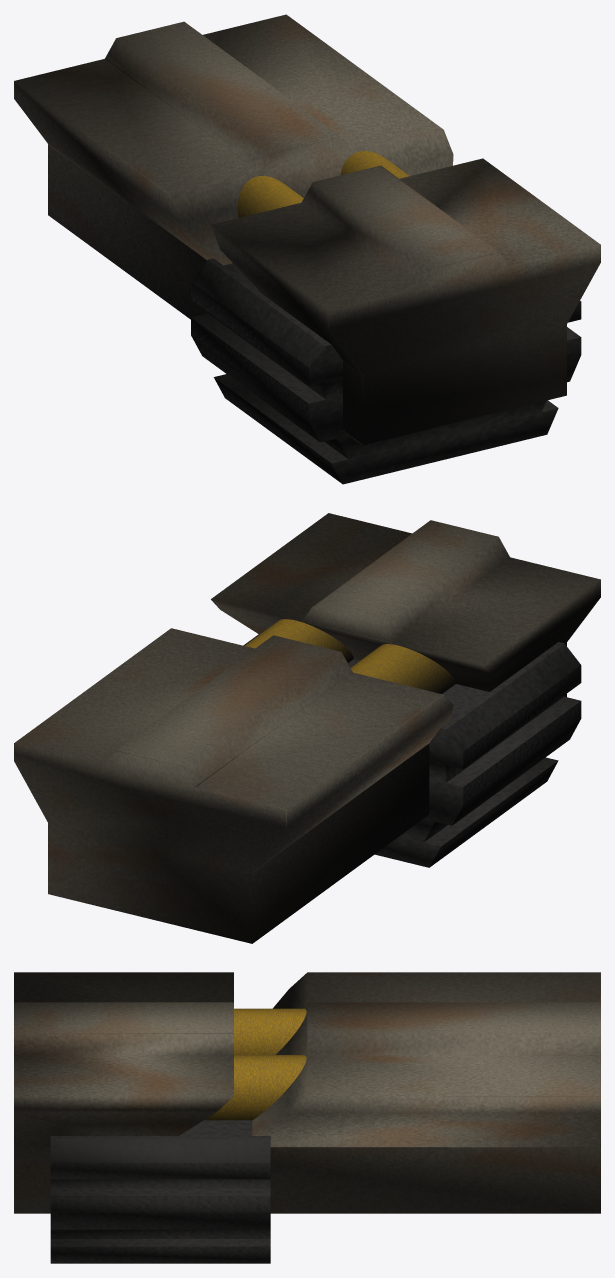
The model's file is ShrapCan.fbx.
The picture shows the model from 3 angles, top to bottom: view 1: azimuth 30°, elevation 25°; view 2: azimuth 150°, elevation 25°; view 3: azimuth 270°, elevation 25°; orthographic projection. The views are drawn at different scales.
Visible parts, largest first — view 1: Cube, Cube.001, Tube; view 2: Cube, Cube.001, Tube; view 3: Cube, Cube.001, Tube.
Part boxes in pixels (box(x1,y1,x2,y2)): Cube: box(14, 14, 600, 445); Cube.001: box(191, 258, 581, 484); Tube: box(237, 151, 409, 217); Cube: box(14, 513, 600, 943); Cube.001: box(243, 634, 581, 867); Tube: box(244, 619, 455, 693); Cube: box(14, 972, 600, 1213); Cube.001: box(50, 1120, 270, 1263); Tube: box(204, 1008, 306, 1120).
Bounding box in the file's own units: 2 × 1.5 × 4.
3 materials, 3 textured.
